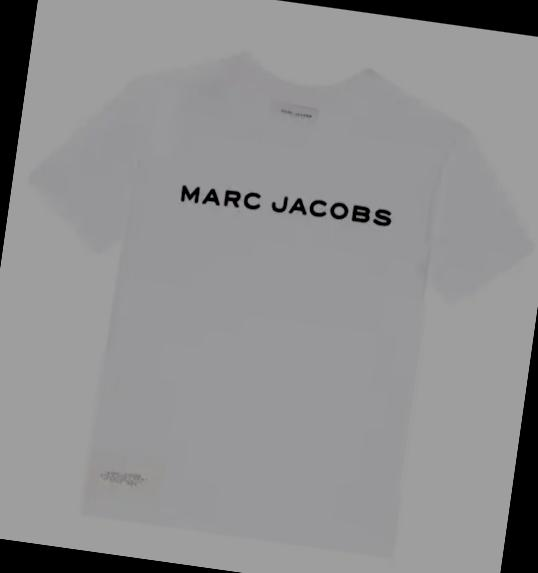MARC-JACOBS: (180, 178, 393, 230)
